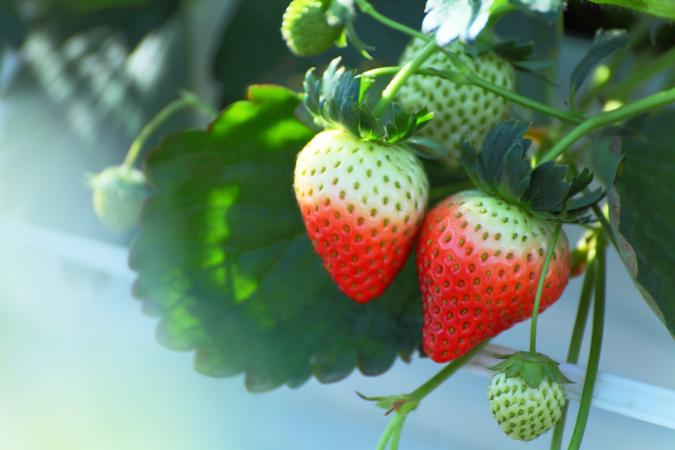ripe_strawberry: (419, 188, 572, 364)
unripe_strawberry: (293, 125, 430, 306), (391, 31, 520, 173), (486, 357, 571, 442), (280, 1, 353, 59), (92, 166, 150, 235)
